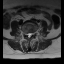CCS_normal: (28, 31, 30, 39)
LFS_normal: (32, 31, 34, 36)
LLS_normal: (30, 31, 32, 37)
RFS_normal: (25, 31, 27, 37)
RLS_normal: (27, 31, 28, 38)
